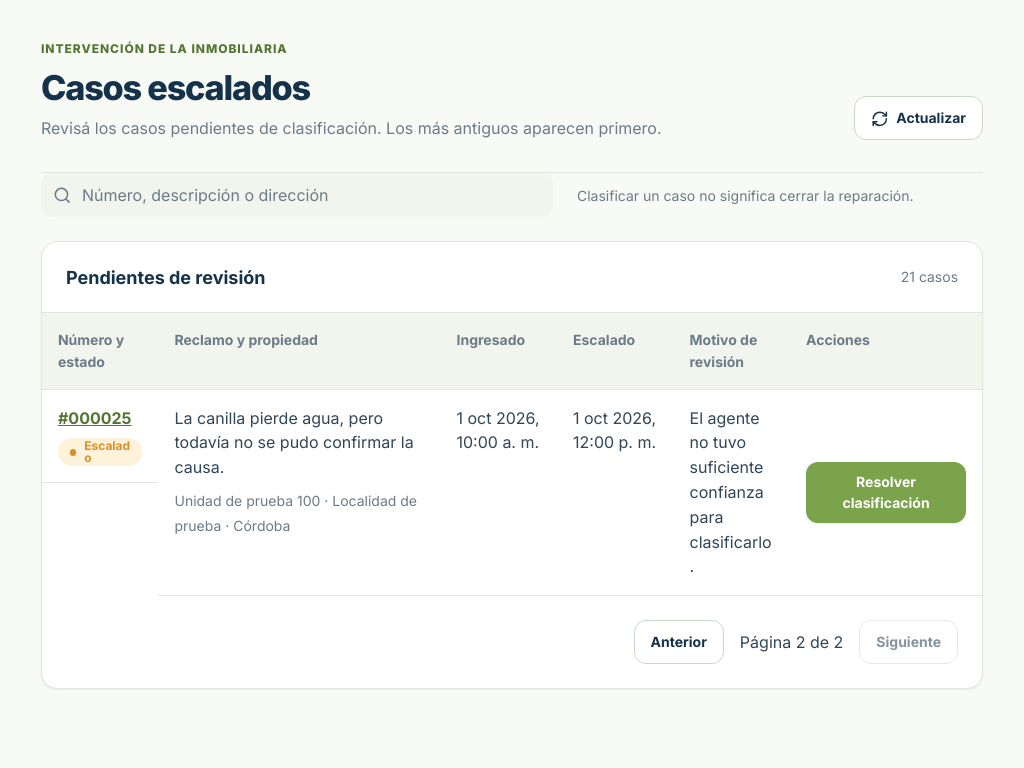
Test case: cola de revisión humana › permite búsqueda y paginación sin mostrar resultados viejos cuando falla
Expected: the table is shown, [42, 313, 982, 596]
Type "canilla" into the search field named "Buscar casos escalados".
click(297, 196); type("canilla")  # box [41, 174, 553, 218]
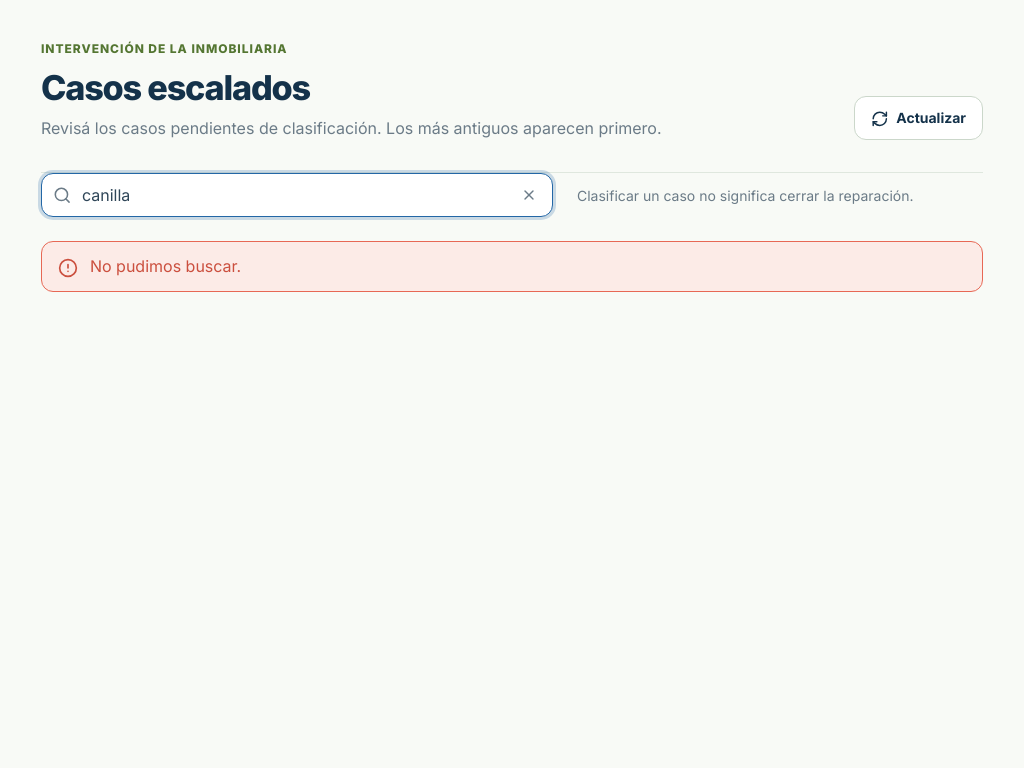
Expected: the message reads "No pudimos buscar.", [90, 256, 241, 276]
Expected: the table is gone
